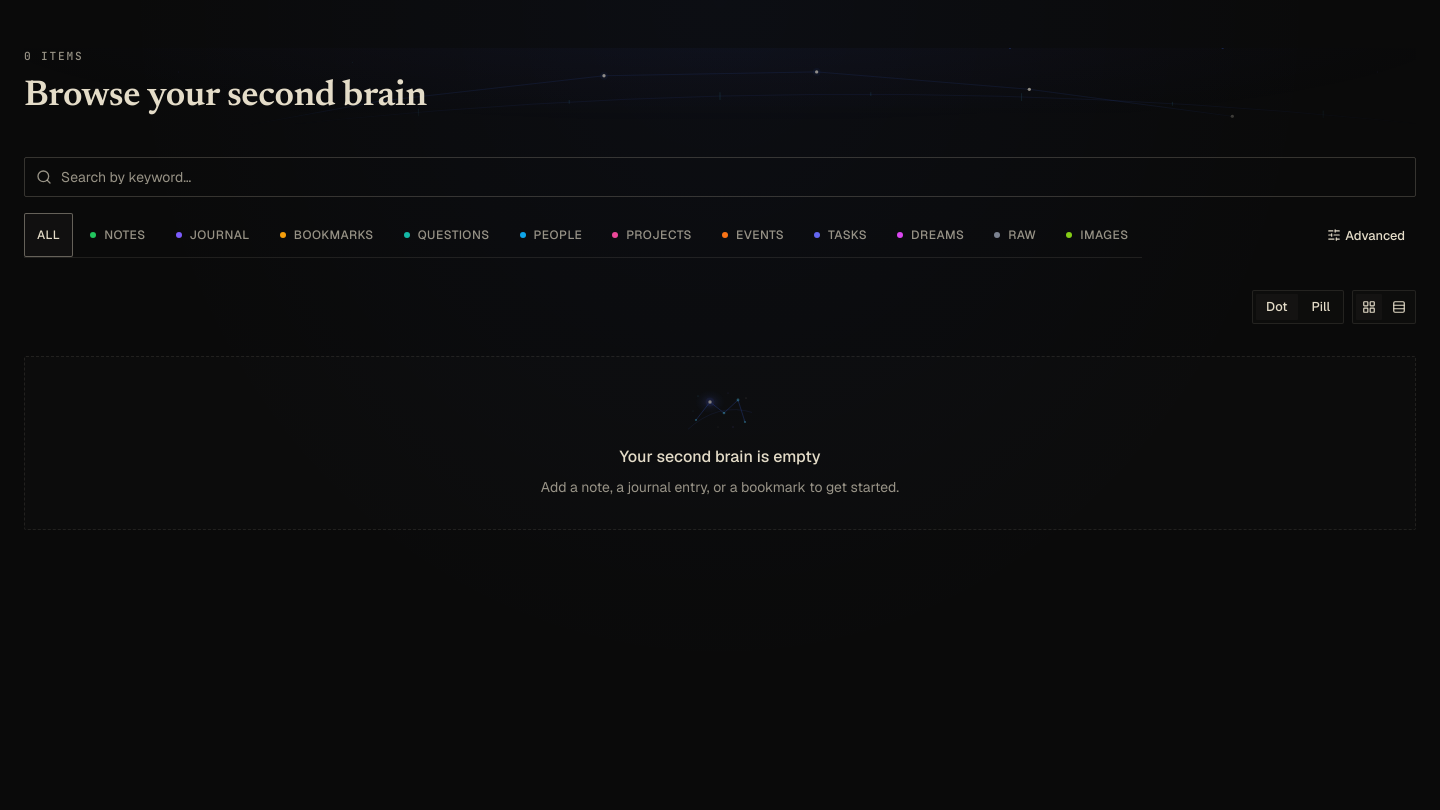
BrowsePage › toggles the advanced filters panel and forwards filter changes
The image size is (1440, 810).
Click the button with test id "advanced-toggle".
click(1366, 235)  # box [1316, 221, 1416, 249]
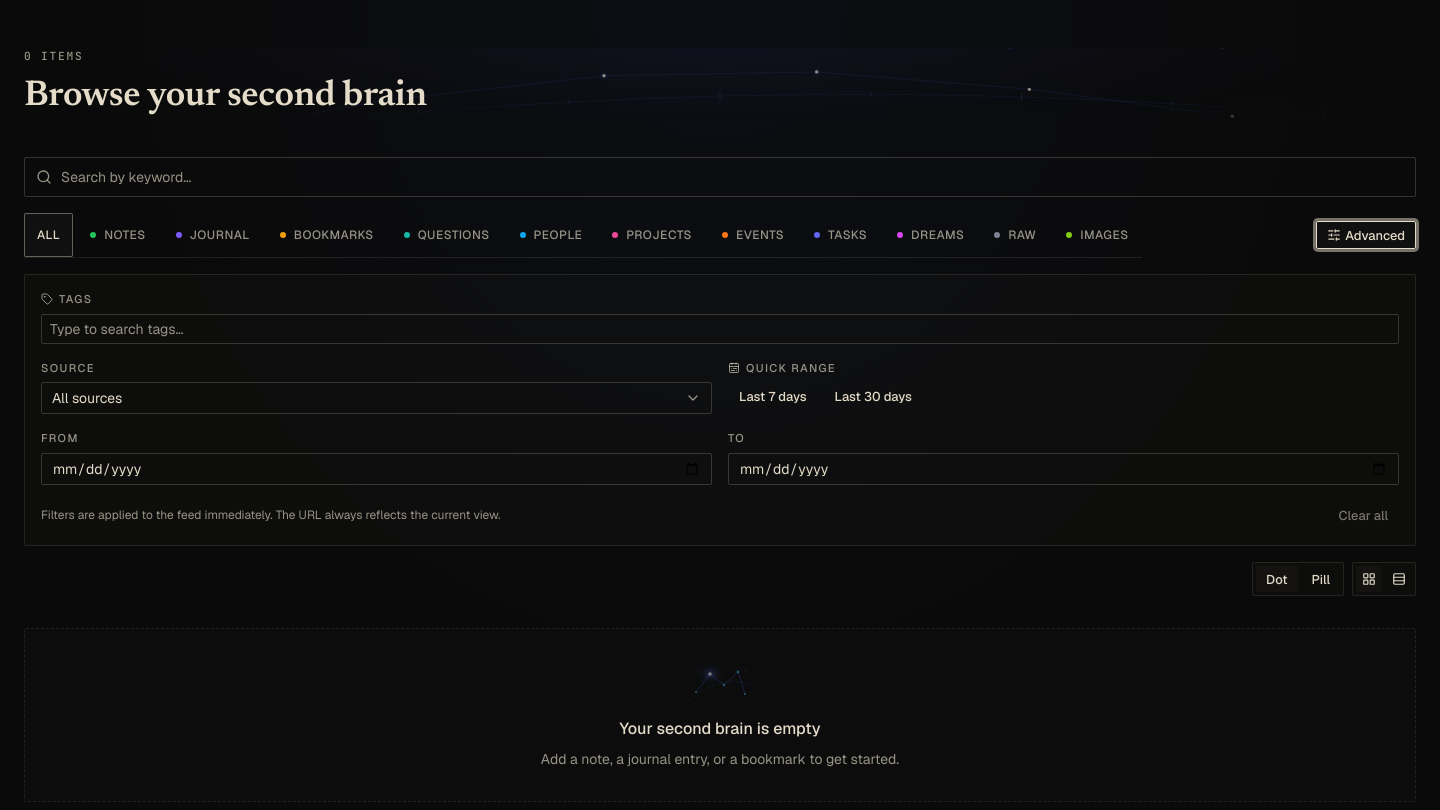
Result: the field with test id "advanced-tag" is shown at [50, 319, 1390, 339]
